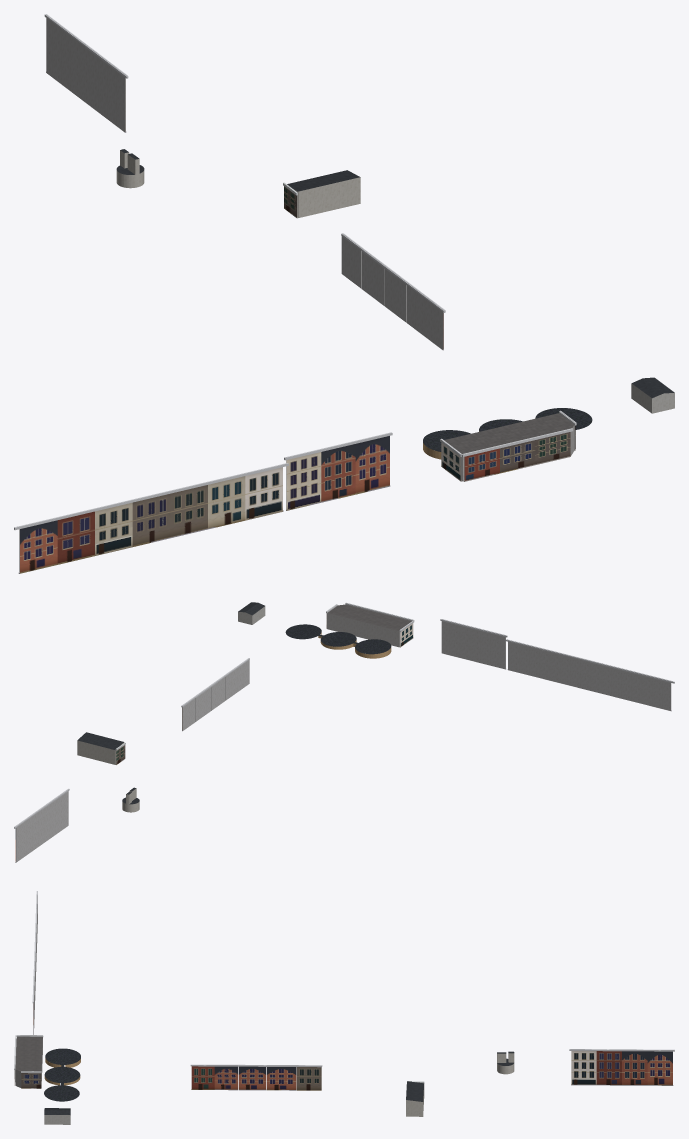
3 renders of one model, top to bottom at view 1: azimuth 30°, elevation 25°; view 2: azimuth 150°, elevation 25°; view 3: azimuth 270°, elevation 25°, orthographic. The views are drawn at different scales.
Visible parts, largest first — view 1: bldg_6008398188_facade16, bldg_6008398188_facade15, bldg_6008398188_facade10, bldg_6004321697_facade0, bldg_6004321697_roof, bldg_6004321704, bldg_6008398188_facade14, bldg_6000073194_roof, bldg_6008398188_facade12, bldg_6008398188_facade13, bldg_6008398188_facade11; view 2: bldg_6008398188_facade16, bldg_6008398188_facade15, bldg_6008398188_facade10, bldg_6000073194_roof, bldg_6004321697, bldg_6004321697_roof, bldg_6008398188_facade14, bldg_6004321704, bldg_6008398188_facade12, bldg_6004321704_roof, bldg_6008398188_facade13; view 3: bldg_6008398188_facade10, bldg_6000073194_roof, bldg_6008398188_facade14, bldg_6004321697_roof, bldg_6008398188_facade12, bldg_6008398188_facade13, bldg_6008398188_facade11, bldg_6004321697_facade2.
Part boxes in pixels (x1=…): bldg_6008398188_facade16: x1=14, y1=463, x2=288, y2=573; bldg_6008398188_facade15: x1=284, y1=432, x2=392, y2=510; bldg_6008398188_facade10: x1=44, y1=14, x2=128, y2=132; bldg_6004321697_facade0: x1=461, y1=428, x2=573, y2=481; bldg_6004321697_roof: x1=444, y1=413, x2=573, y2=453; bldg_6004321704: x1=292, y1=177, x2=360, y2=217; bldg_6008398188_facade14: x1=406, y1=282, x2=445, y2=350; bldg_6000073194_roof: x1=423, y1=408, x2=592, y2=451; bldg_6008398188_facade12: x1=361, y1=248, x2=386, y2=306; bldg_6008398188_facade13: x1=385, y1=266, x2=407, y2=322; bldg_6008398188_facade11: x1=341, y1=233, x2=362, y2=288; bldg_6008398188_facade16: x1=505, y1=639, x2=674, y2=711; bldg_6008398188_facade15: x1=440, y1=619, x2=507, y2=669; bldg_6008398188_facade10: x1=14, y1=788, x2=69, y2=862; bldg_6000073194_roof: x1=285, y1=624, x2=391, y2=654; bldg_6004321697: x1=327, y1=613, x2=399, y2=647; bldg_6004321697_roof: x1=328, y1=604, x2=411, y2=630; bldg_6008398188_facade14: x1=224, y1=658, x2=249, y2=700; bldg_6004321704: x1=77, y1=740, x2=124, y2=764; bldg_6008398188_facade12: x1=195, y1=685, x2=211, y2=721; bldg_6004321704_roof: x1=77, y1=732, x2=123, y2=750; bldg_6008398188_facade13: x1=210, y1=675, x2=225, y2=710; bldg_6008398188_facade10: x1=569, y1=1049, x2=674, y2=1085; bldg_6000073194_roof: x1=44, y1=1048, x2=80, y2=1101; bldg_6008398188_facade14: x1=190, y1=1064, x2=238, y2=1090; bldg_6004321697_roof: x1=15, y1=1036, x2=42, y2=1071; bldg_6008398188_facade12: x1=266, y1=1065, x2=296, y2=1090; bldg_6008398188_facade13: x1=238, y1=1064, x2=266, y2=1090; bldg_6008398188_facade11: x1=296, y1=1065, x2=322, y2=1090; bldg_6004321697_facade2: x1=21, y1=1071, x2=41, y2=1088.
Size of the model in its own units: 122 by 10.07 by 167.
Materials: 15 (9 with a texture image).
